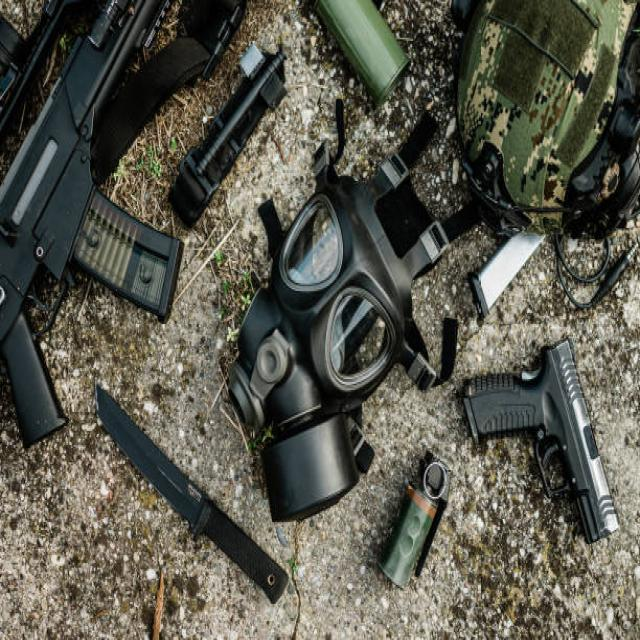grenade: (381, 456, 450, 596)
